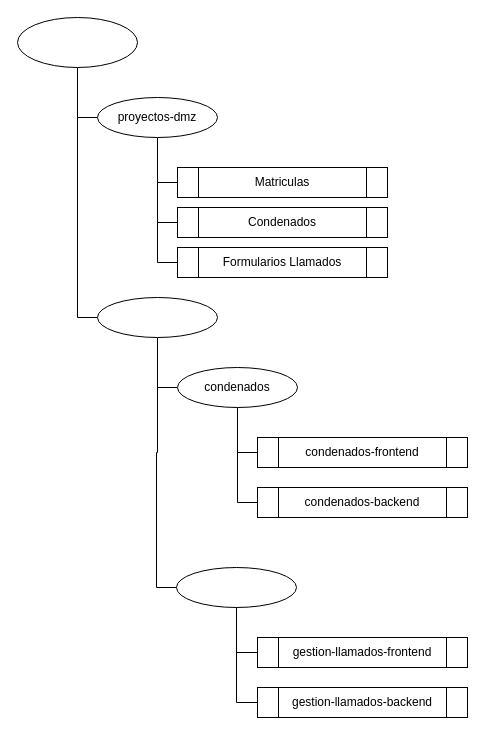
Some shapes in this 485 by 735 pixel diagram are drawn without their labels. Here are the shapes that lost their labels. From the top down, the centre of each, then its label:
At point (77, 42): "portal-mi-2024".
At point (157, 317): "proyectos-gestion".
At point (236, 587): "gestion-llamados".
